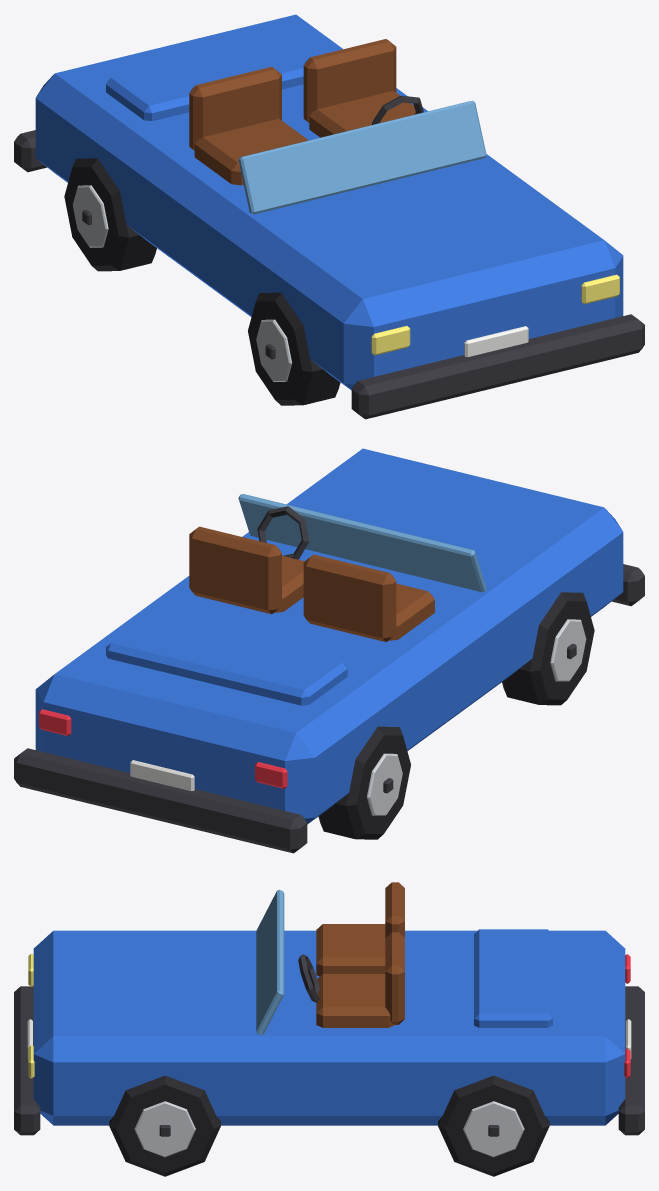
Rendered from Convertible.fbx.
The picture shows the model from 3 angles, top to bottom: view 1: azimuth 30°, elevation 25°; view 2: azimuth 150°, elevation 25°; view 3: azimuth 270°, elevation 25°; orthographic projection. The views are drawn at different scales.
Visible parts, largest first — view 1: Convertible, Convertible_WheelBR, Convertible_WheelFR; view 2: Convertible, Convertible_WheelFR, Convertible_WheelBR; view 3: Convertible, Convertible_WheelBL, Convertible_WheelFL.
Boxes of the visible parts, x1,y1,x2,y2 form: Convertible: (14,14,644,419); Convertible_WheelBR: (64,158,156,271); Convertible_WheelFR: (248,292,340,405); Convertible: (14,448,644,853); Convertible_WheelFR: (502,592,594,705); Convertible_WheelBR: (318,726,410,839); Convertible: (14,882,644,1135); Convertible_WheelBL: (438,1075,549,1176); Convertible_WheelFL: (109,1075,220,1176).
Bounding box in the file's own units: 4.82 × 3.22 × 9.6.
1 material, 1 textured.
